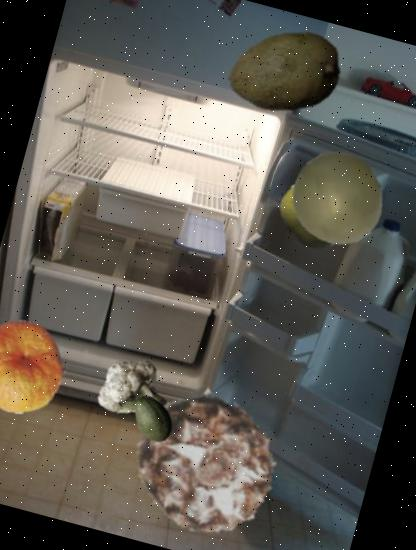Avocado: (121, 386, 185, 450)
Cauliflower: (91, 346, 179, 434)
Grape: (280, 142, 395, 258)
Mandarine: (0, 309, 79, 425)
Papaya: (214, 2, 355, 143)
Pineapple: (117, 375, 295, 550)
Pomelo: (268, 172, 356, 261)
